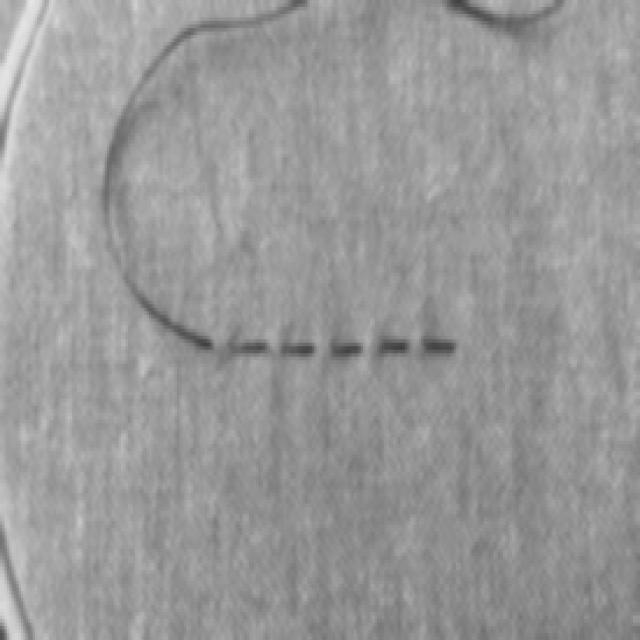stitch: (330, 334, 364, 356), (227, 336, 269, 353), (280, 336, 315, 355), (421, 334, 456, 353), (376, 334, 410, 353)
